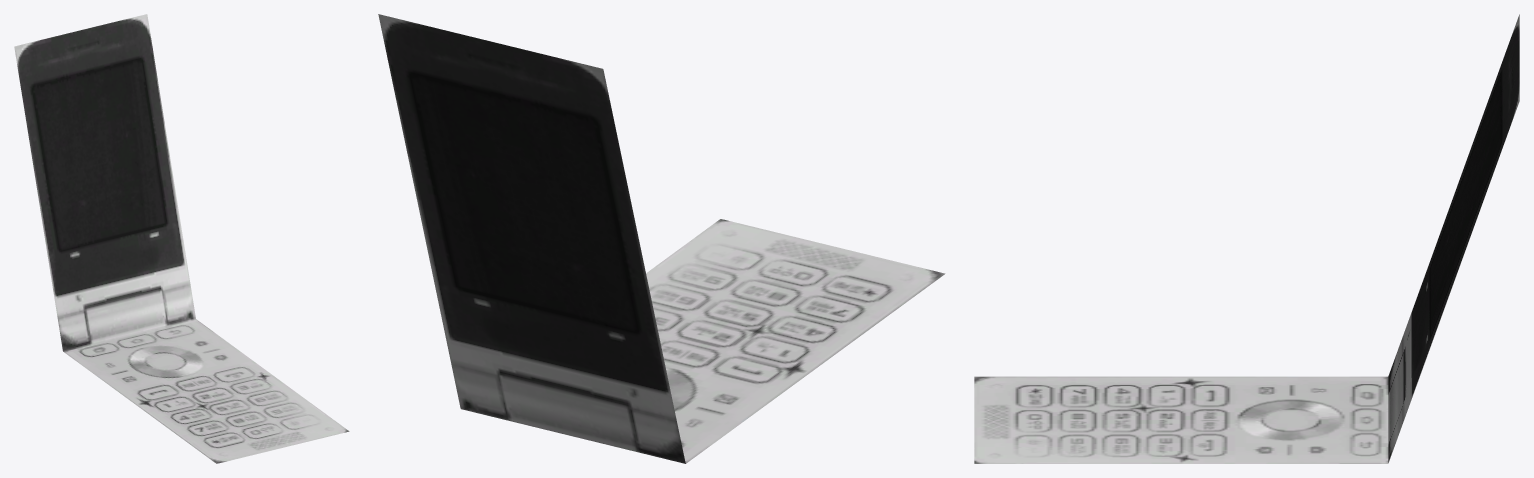
The model's file is phone_hand.glb.
3 renders of one model, left to right at view 1: azimuth 30°, elevation 25°; view 2: azimuth 150°, elevation 25°; view 3: azimuth 270°, elevation 25°, orthographic. The views are drawn at different scales.
Parts seen in each view (by area): view 1: phone_hand; view 2: phone_hand; view 3: phone_hand.
Boxes of the visible parts, <box> form: phone_hand: <box>14,14,349,463</box>; phone_hand: <box>378,14,945,463</box>; phone_hand: <box>974,14,1519,463</box>.
Size of the model in its own units: 0.06 by 0.116 by 0.1581.
1 material, 1 textured.
